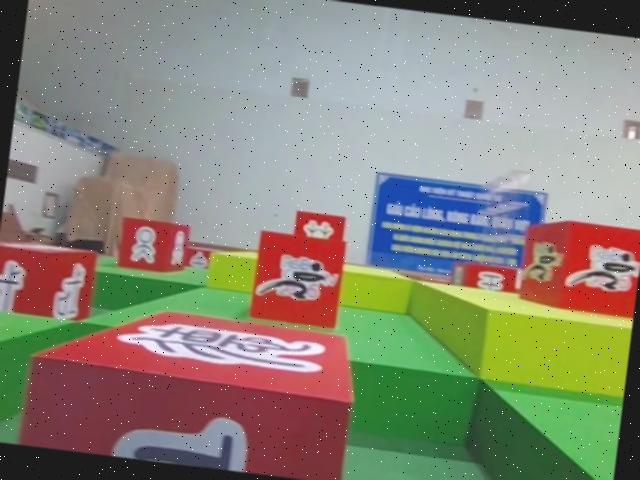R1: (513, 210, 640, 320), (246, 226, 345, 328)
R2 Fake: (10, 293, 362, 480)
R2 Real: (0, 235, 96, 322), (116, 211, 190, 274)
